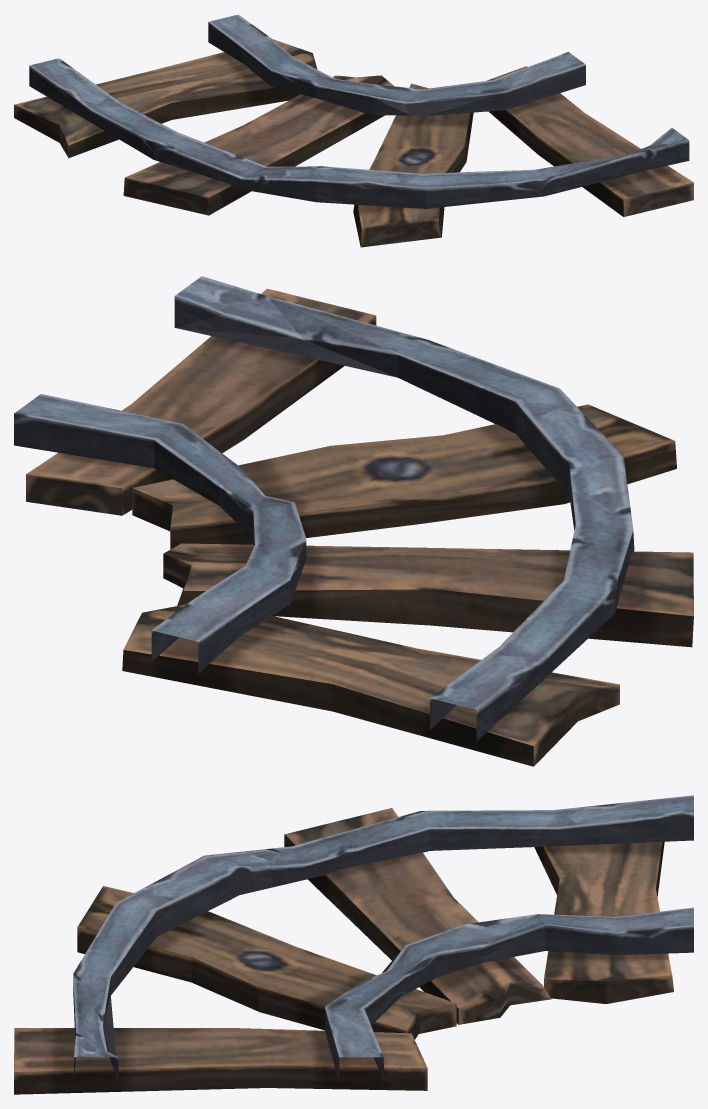
The model's file is bandit_track_corner_01.fbx.
3 renders of one model, top to bottom at view 1: azimuth 30°, elevation 25°; view 2: azimuth 150°, elevation 25°; view 3: azimuth 270°, elevation 25°, orthographic. The views are drawn at different scales.
Visible parts, largest first — view 1: obj0.722; view 2: obj0.722; view 3: obj0.722.
Part boxes in pixels (box(x1,y1,x2,y2)): obj0.722: box(14, 14, 693, 247); obj0.722: box(14, 276, 693, 766); obj0.722: box(14, 795, 693, 1094).
Bounding box in the file's own units: 2.84 × 0.2672 × 2.92.
